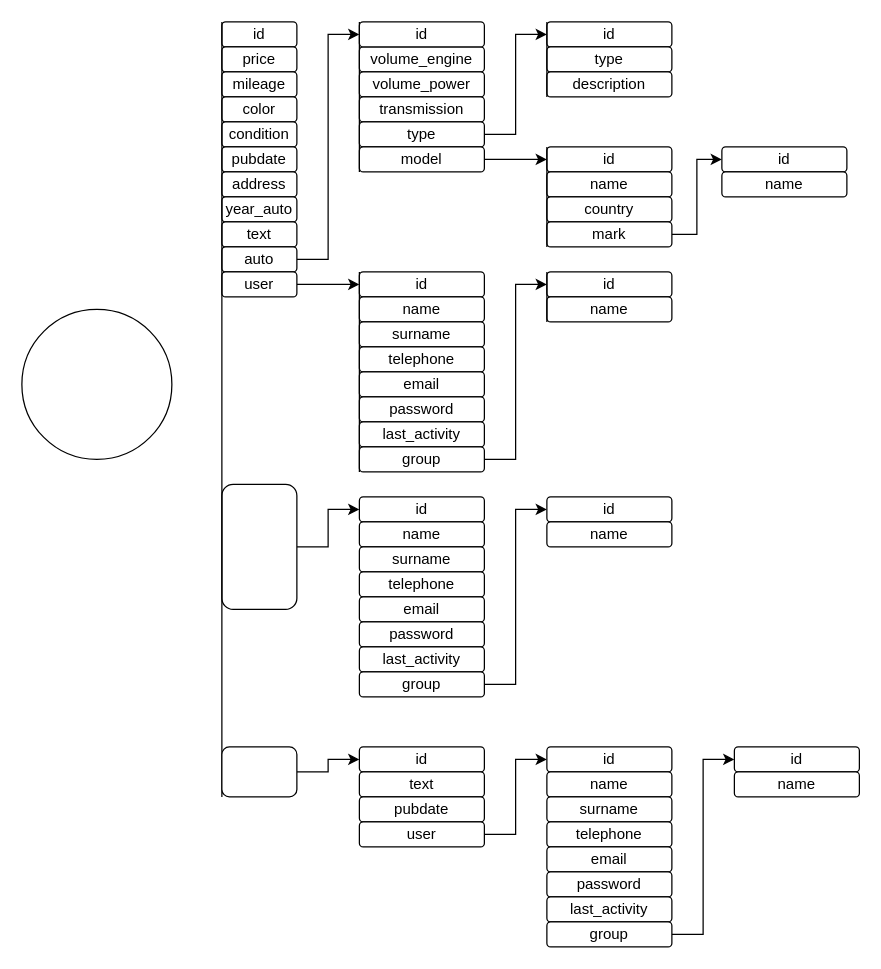
This 881x969 diagram has some shape labels left out. Each missing label, with the centre of its shape:
"ADVERTISEMENT" goes at point 96,383.
"list_of_ comments" goes at point 259,771.
"list_of_ users_ who_save _this_ad vertise ment" goes at point 259,546.
